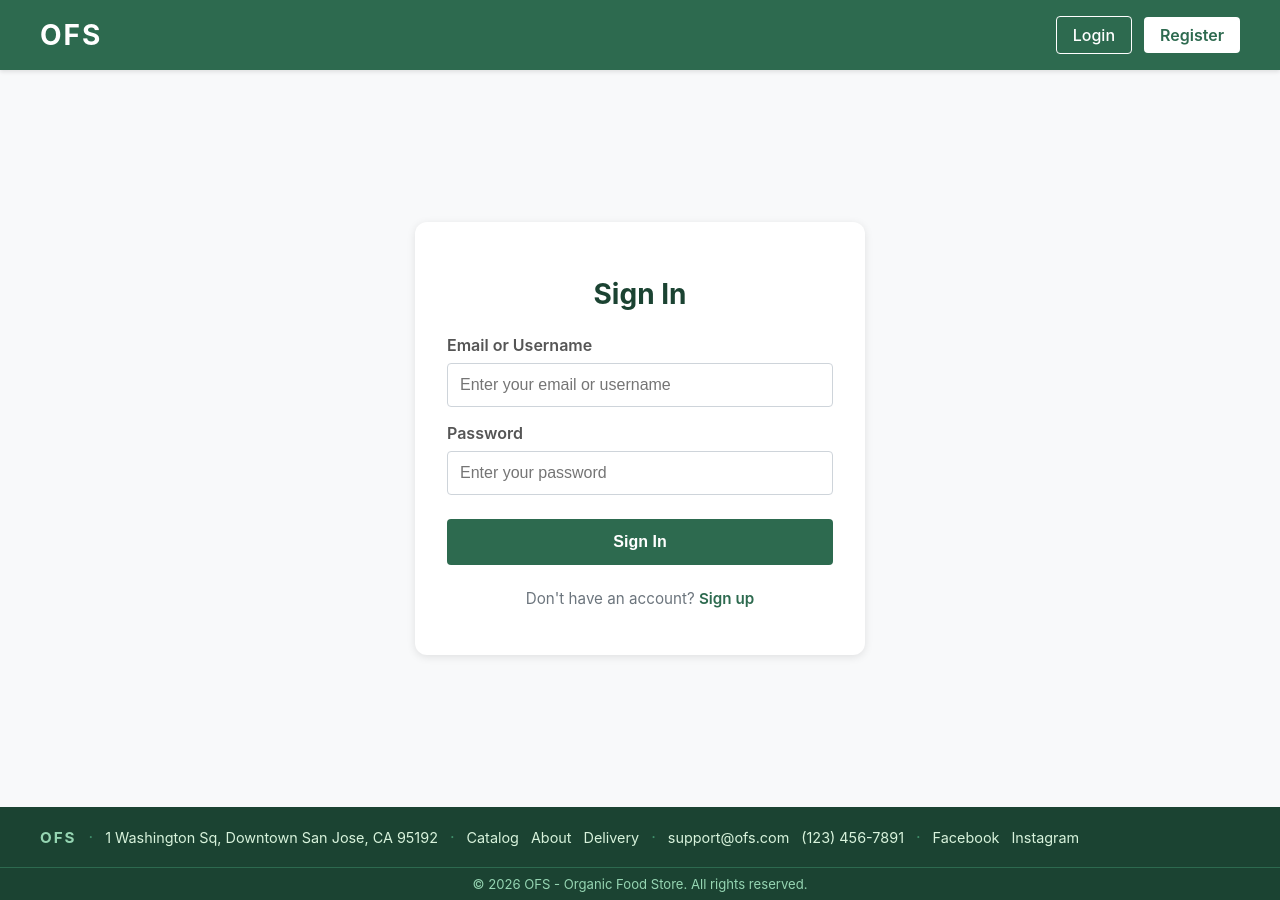
login shows error on invalid credentials
Type "baduser" into the field labelled "Email or Username" at {"x": 640, "y": 385}, box left=447, top=363, right=833, bottom=407
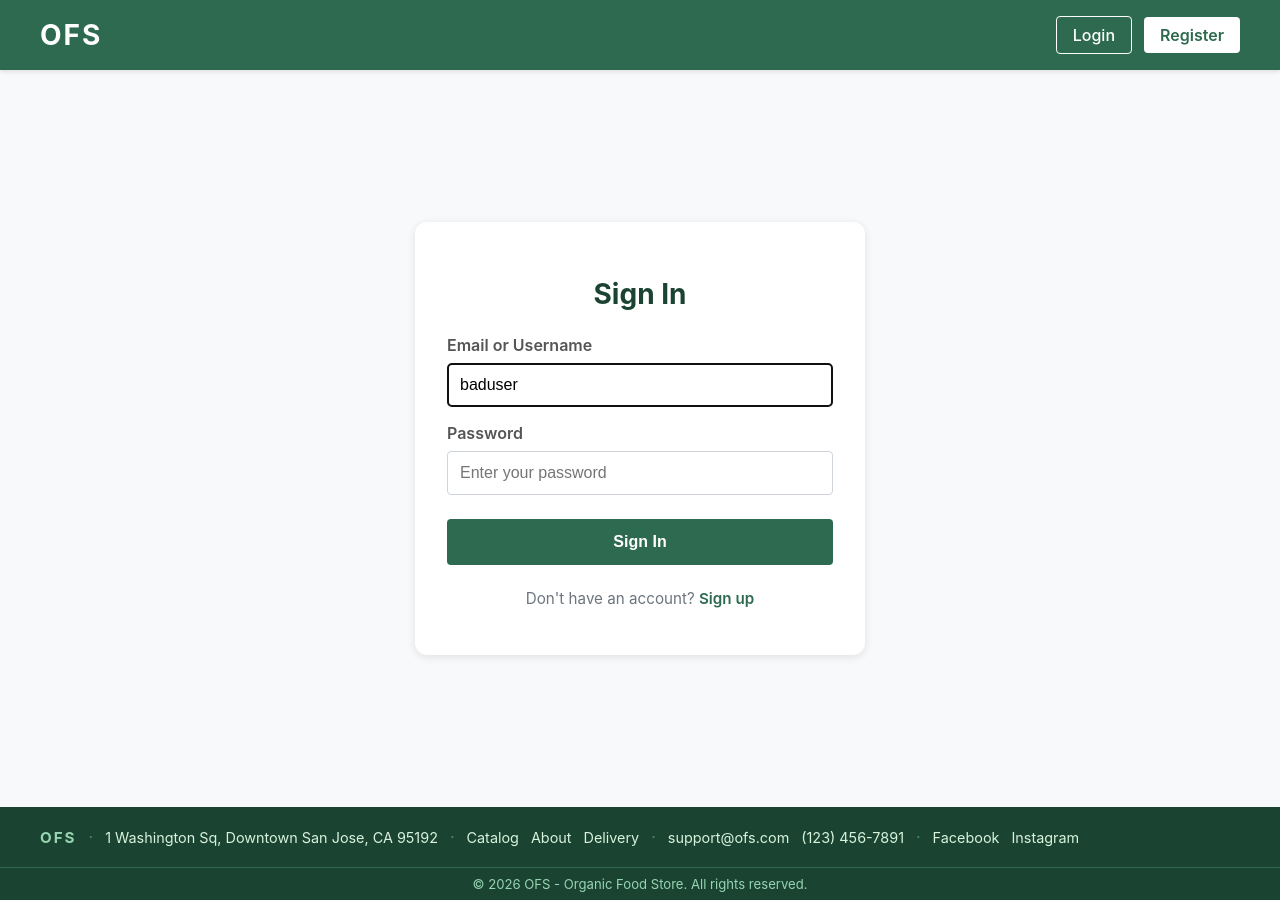
Type "WrongPassword" into the password field labelled "Password" at {"x": 640, "y": 473}, box left=447, top=451, right=833, bottom=495
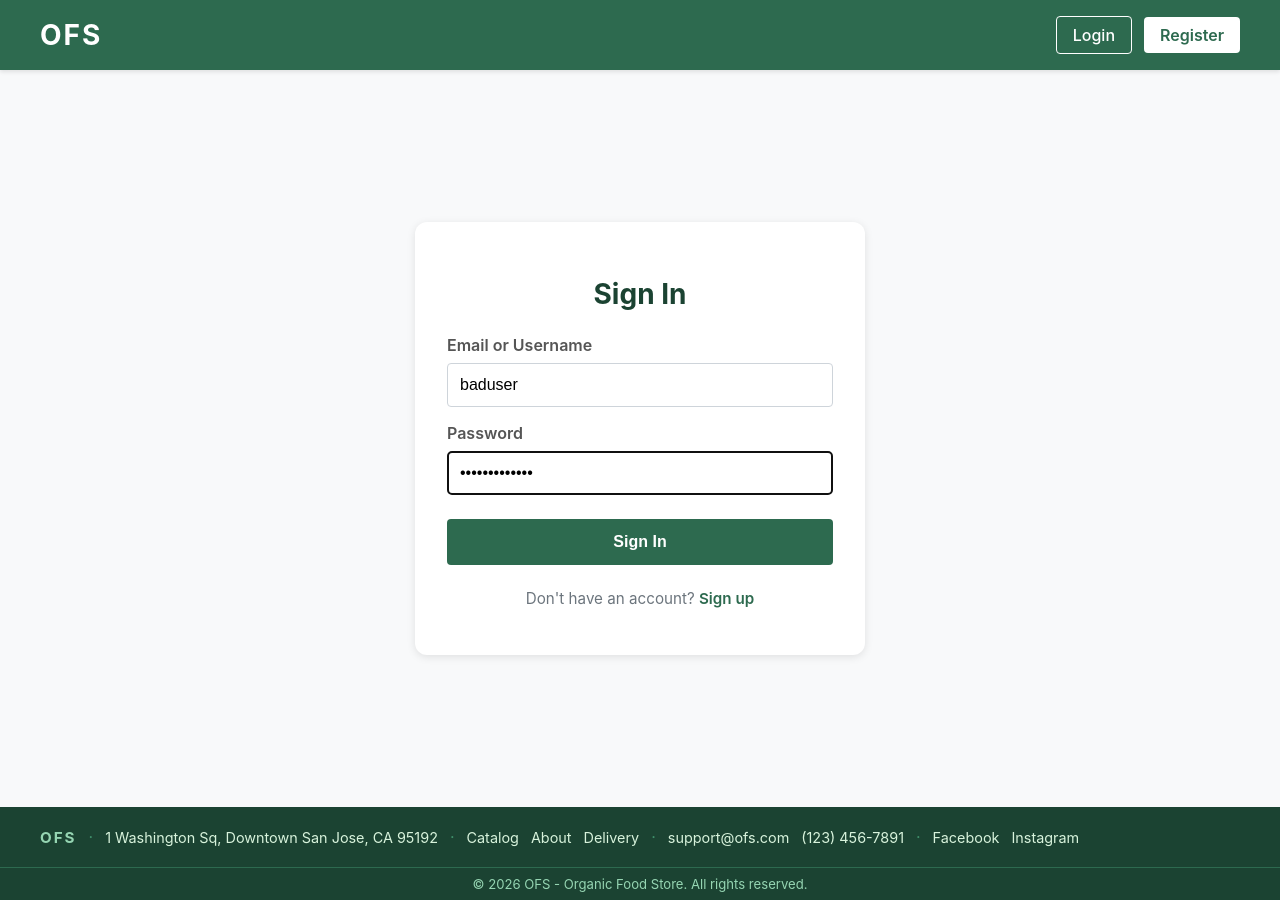
Click the button "Sign In" at {"x": 640, "y": 542}, box left=447, top=519, right=833, bottom=565
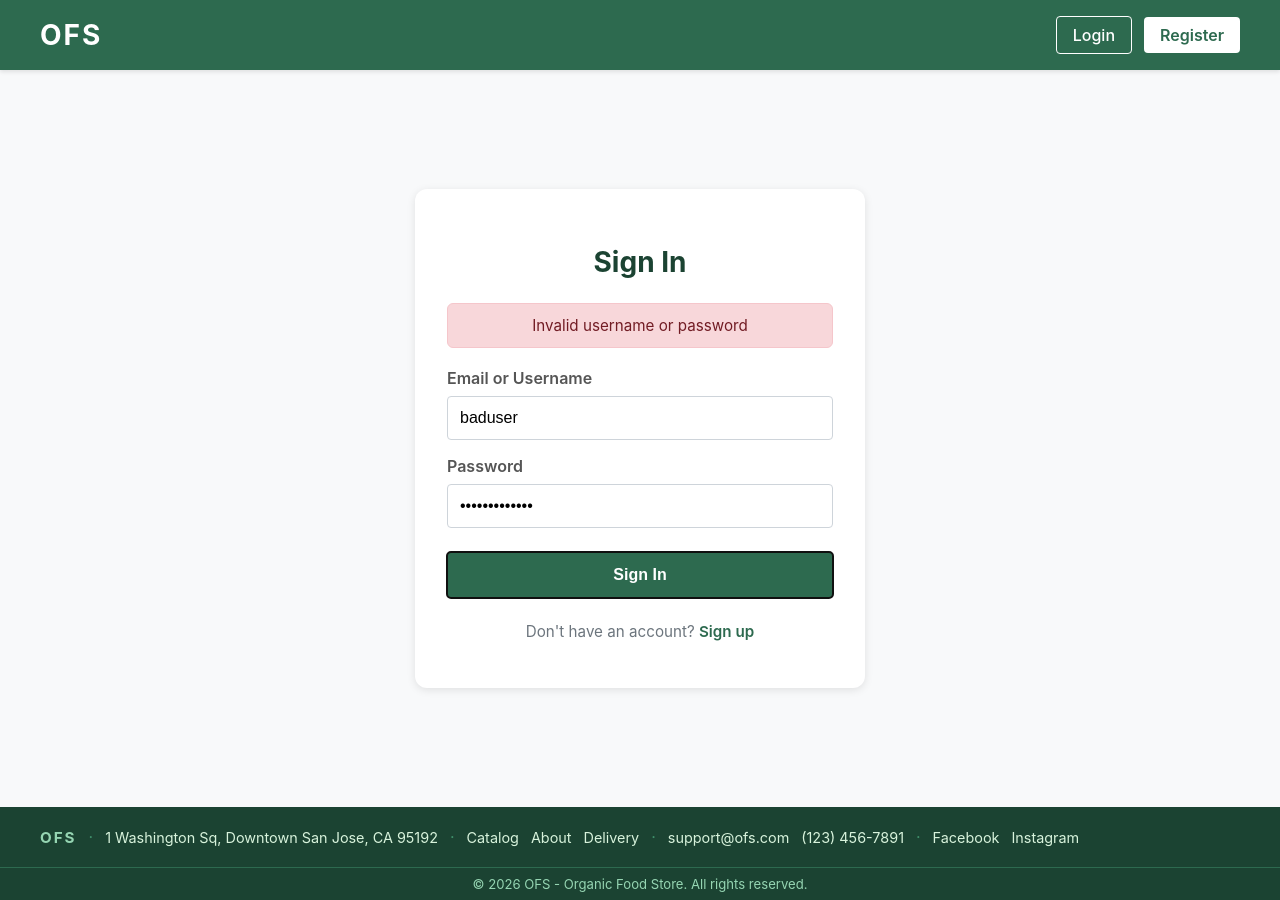
Now the text "Invalid username or password" is shown, box left=447, top=302, right=833, bottom=348
